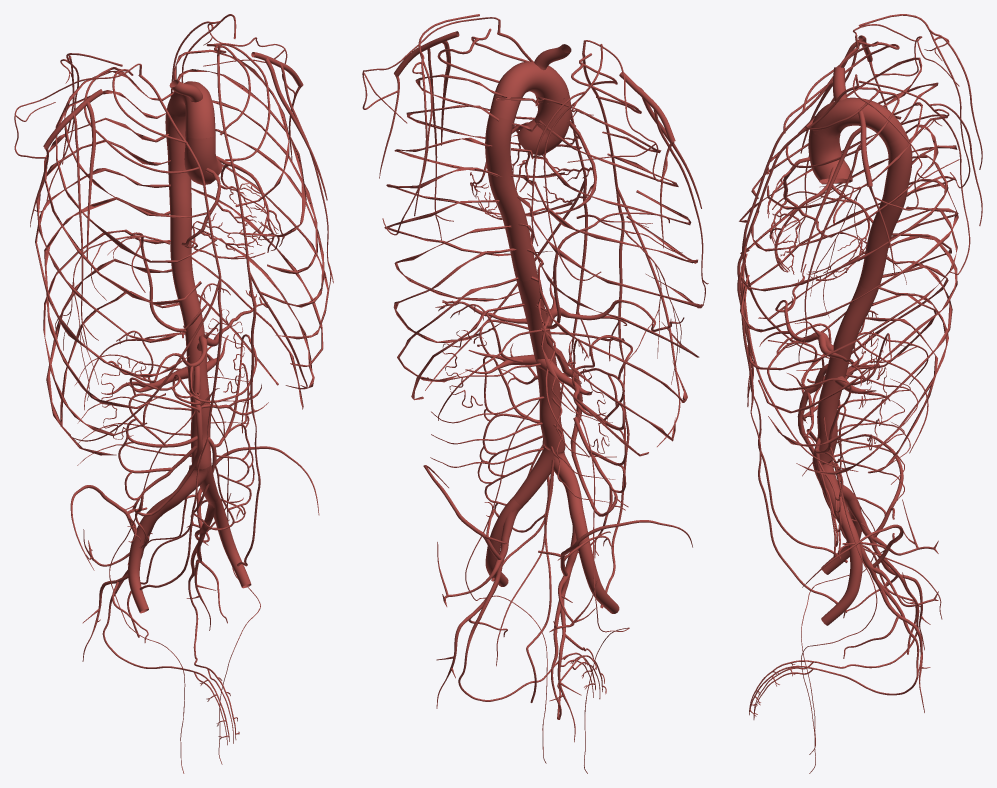
Rendered from arterial-trunk-mobile.glb.
3 renders of one model, left to right at view 1: azimuth 30°, elevation 25°; view 2: azimuth 150°, elevation 25°; view 3: azimuth 270°, elevation 25°, orthographic. The views are drawn at different scales.
Parts seen in each view (by area): view 1: za.posterior-intercostal-arteries-r, za.posterior-intercostal-arteries-l, za.thoracic-aorta, za.abdominal-aorta, za.aortic-arch, za.superior-mesenteric-artery, za.ascending-aorta, za.external-iliac-artery-r, za.external-iliac-artery-l, za.right-coronary-artery, za.lumbar-arteries-r, za.common-iliac-artery-r (+11 smaller); view 2: za.posterior-intercostal-arteries-r, za.posterior-intercostal-arteries-l, za.thoracic-aorta, za.abdominal-aorta, za.aortic-arch, za.ascending-aorta, za.external-iliac-artery-r, za.superior-mesenteric-artery, za.common-iliac-artery-l, za.lumbar-arteries-l, za.right-coronary-artery, za.common-iliac-artery-r (+11 smaller); view 3: za.posterior-intercostal-arteries-l, za.posterior-intercostal-arteries-r, za.thoracic-aorta, za.abdominal-aorta, za.aortic-arch, za.ascending-aorta, za.external-iliac-artery-l, za.right-coronary-artery, za.superior-mesenteric-artery, za.common-iliac-artery-l, za.lumbar-arteries-l, za.anterior-inferior-pancreaticoduodenal-artery (+22 smaller).
Boxes of the visible parts, x1,y1,x2,y2 form: za.posterior-intercostal-arteries-r: [35, 71, 216, 455]; za.posterior-intercostal-arteries-l: [172, 49, 329, 409]; za.thoracic-aorta: [165, 105, 192, 272]; za.abdominal-aorta: [172, 269, 211, 469]; za.aortic-arch: [168, 81, 215, 138]; za.superior-mesenteric-artery: [123, 365, 268, 516]; za.ascending-aorta: [184, 135, 222, 185]; za.external-iliac-artery-r: [128, 506, 161, 613]; za.external-iliac-artery-l: [208, 496, 251, 588]; za.right-coronary-artery: [181, 168, 265, 259]; za.lumbar-arteries-r: [74, 354, 191, 465]; za.common-iliac-artery-r: [153, 465, 210, 515]; za.posterior-intercostal-arteries-r: [496, 96, 703, 456]; za.posterior-intercostal-arteries-l: [384, 74, 581, 400]; za.thoracic-aorta: [485, 115, 537, 281]; za.abdominal-aorta: [516, 273, 565, 452]; za.aortic-arch: [489, 61, 568, 120]; za.ascending-aorta: [517, 91, 571, 155]; za.external-iliac-artery-r: [571, 513, 619, 613]; za.superior-mesenteric-artery: [501, 338, 628, 516]; za.common-iliac-artery-l: [513, 446, 564, 506]; za.lumbar-arteries-l: [427, 363, 544, 467]; za.right-coronary-artery: [522, 121, 596, 214]; za.common-iliac-artery-r: [551, 451, 584, 517]; za.posterior-intercostal-arteries-l: [740, 102, 958, 474]; za.posterior-intercostal-arteries-r: [739, 57, 958, 370]; za.thoracic-aorta: [858, 132, 912, 290]; za.abdominal-aorta: [812, 283, 878, 464]; za.aortic-arch: [811, 97, 905, 143]; za.ascending-aorta: [808, 130, 852, 184]; za.external-iliac-artery-l: [821, 518, 862, 625]; za.right-coronary-artery: [767, 157, 860, 274]; za.superior-mesenteric-artery: [787, 364, 841, 481]; za.common-iliac-artery-l: [813, 462, 850, 523]; za.lumbar-arteries-l: [837, 374, 918, 506]; za.anterior-inferior-pancreaticoduodenal-artery: [767, 323, 832, 390].
Bounding box in the file's own units: 0.2878 × 0.7082 × 0.2209.
